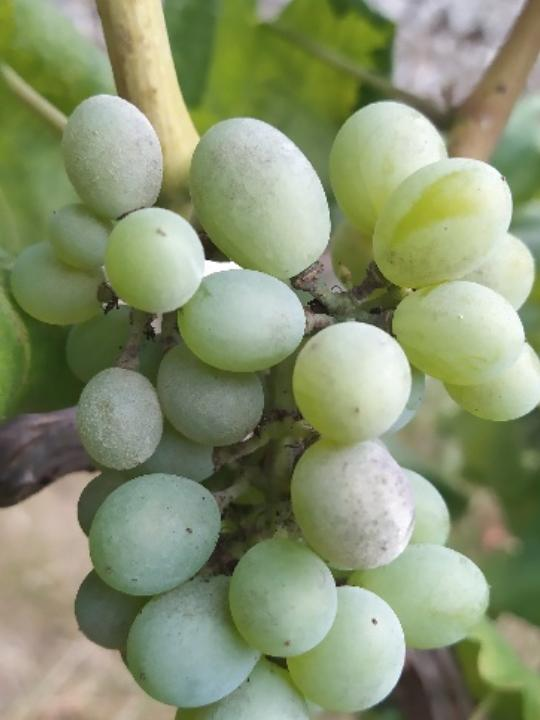grape: (8, 81, 540, 720)
